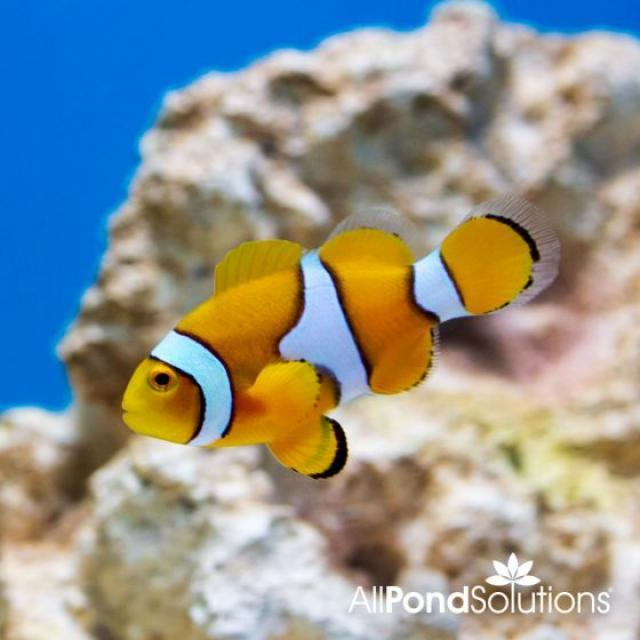ClownFish: (121, 203, 544, 476)
